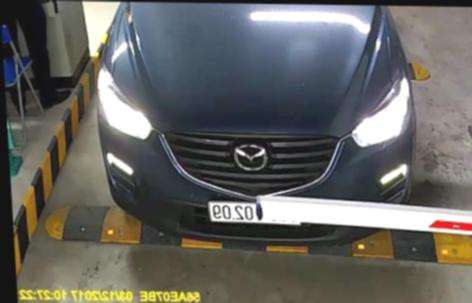License_Plate: (206, 197, 303, 228)
